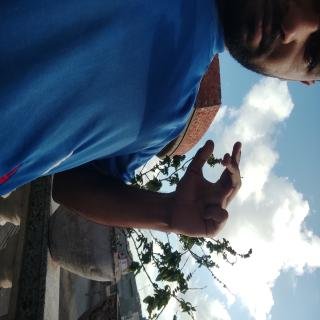DHELL: (97, 94, 188, 221)
